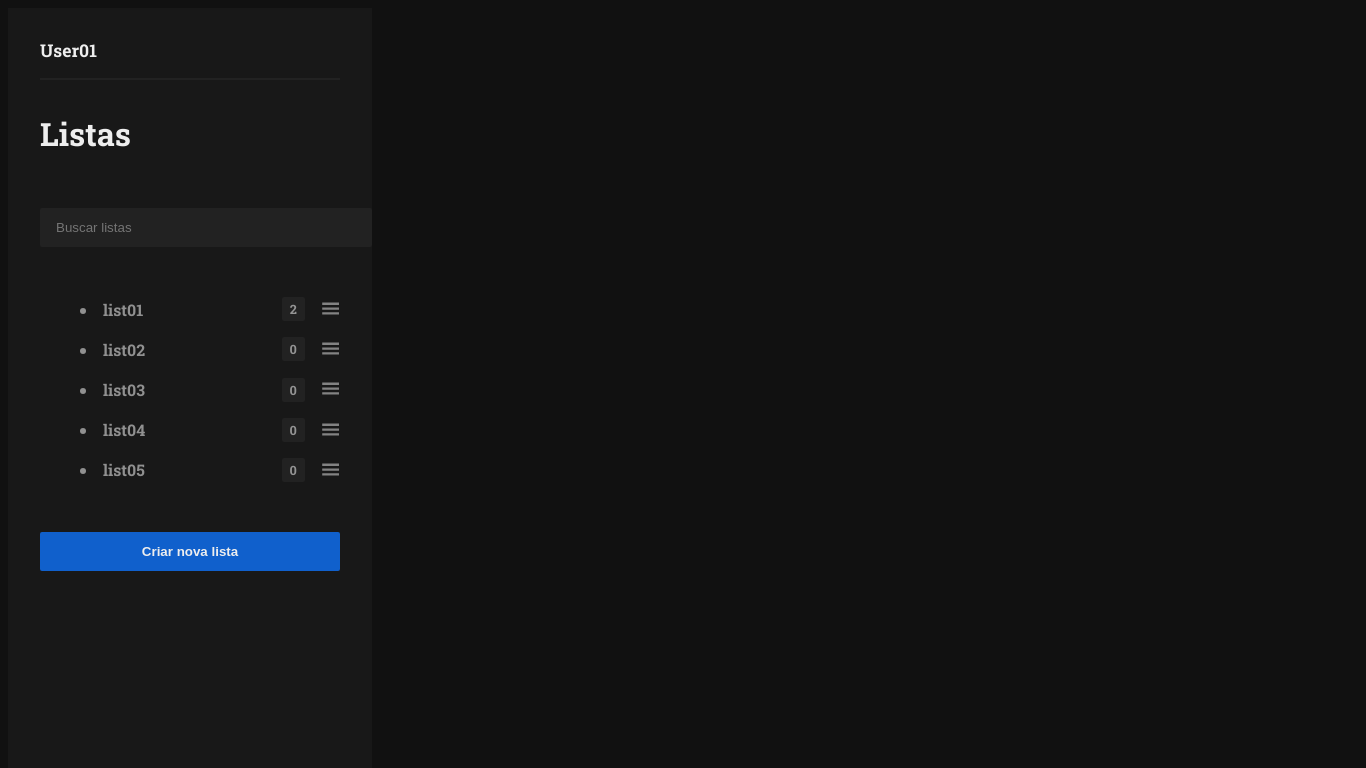
Home page › Sidebar › Creates a new list
This screenshot has width=1366, height=768.
Click the button with test id "create-list": click(190, 552) [40,532,340,571]
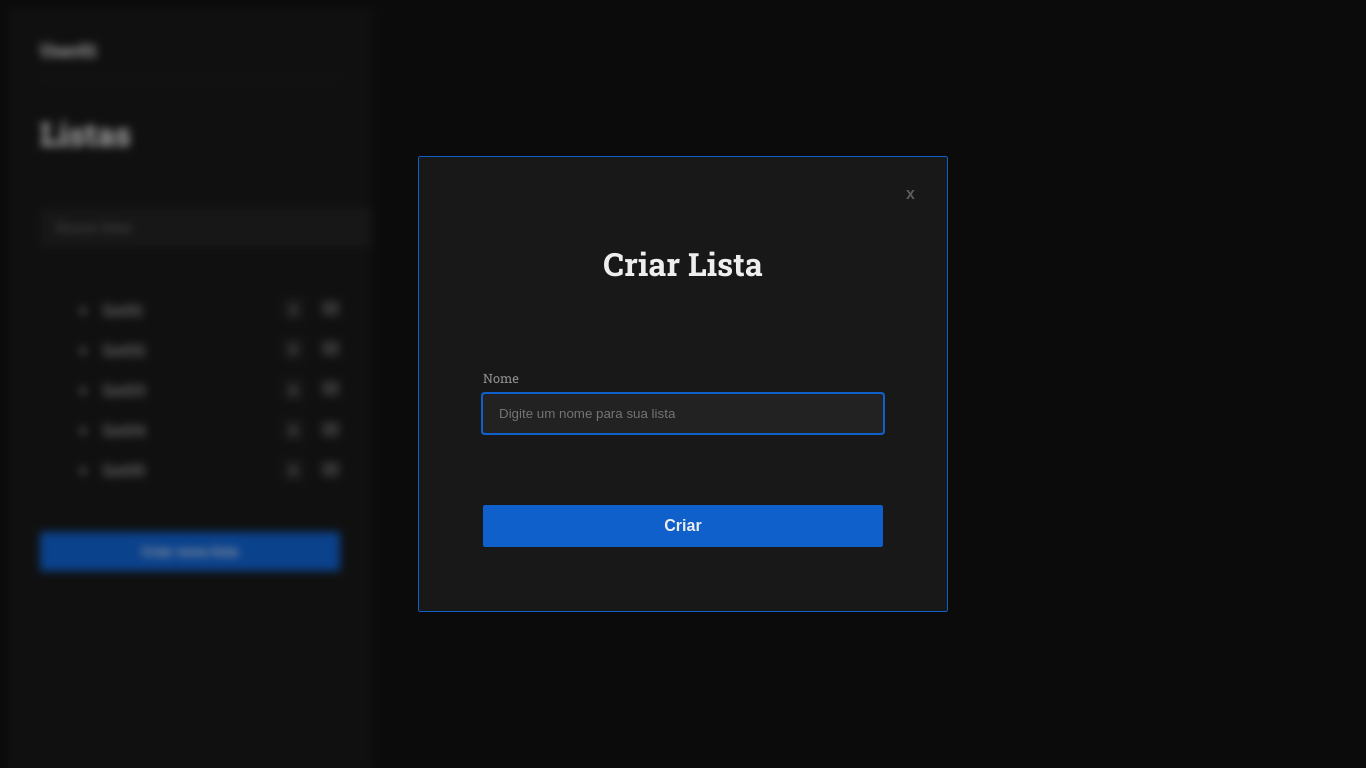
Check: the element with test id "create-list-container" is shown
In the field with test id "name": (683, 414) [483,394,883,433], type "New List"
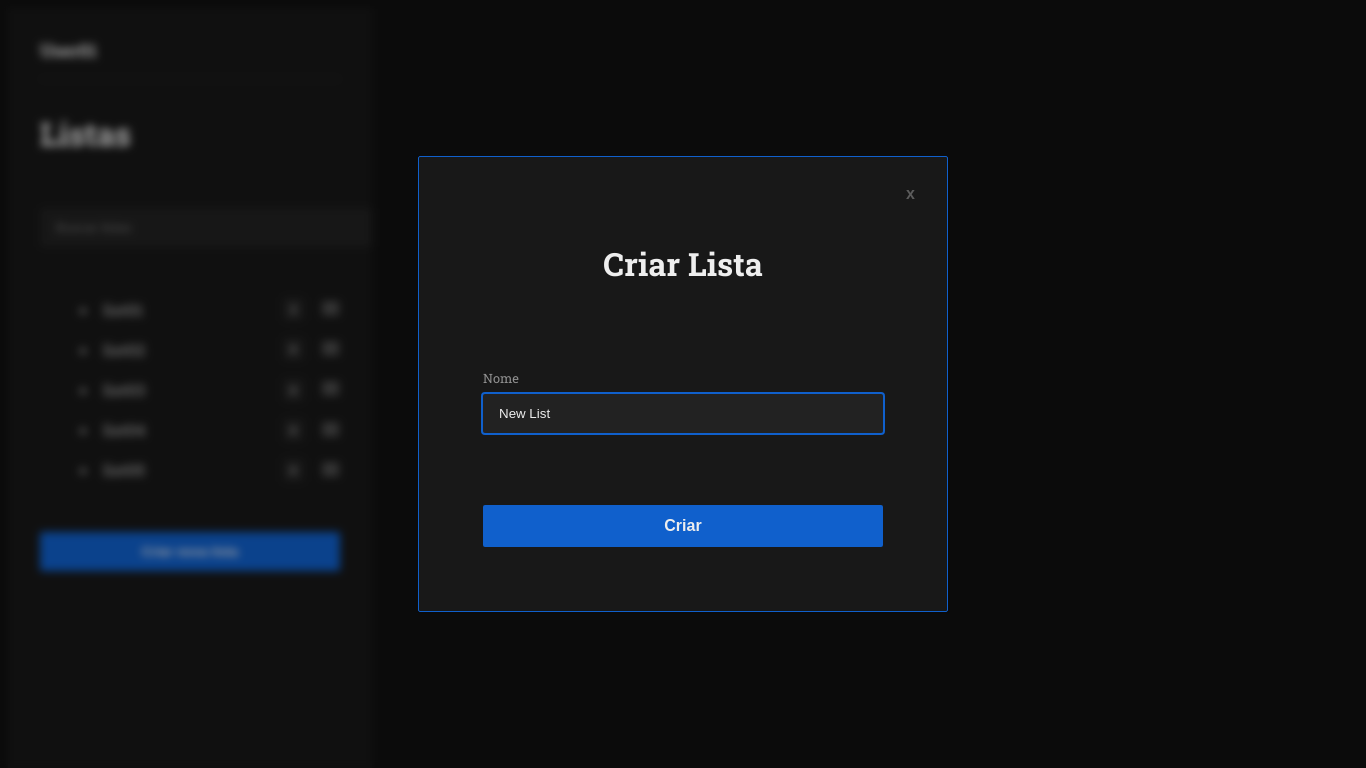
Click the button with test id "submit": click(683, 526) [483,505,883,547]
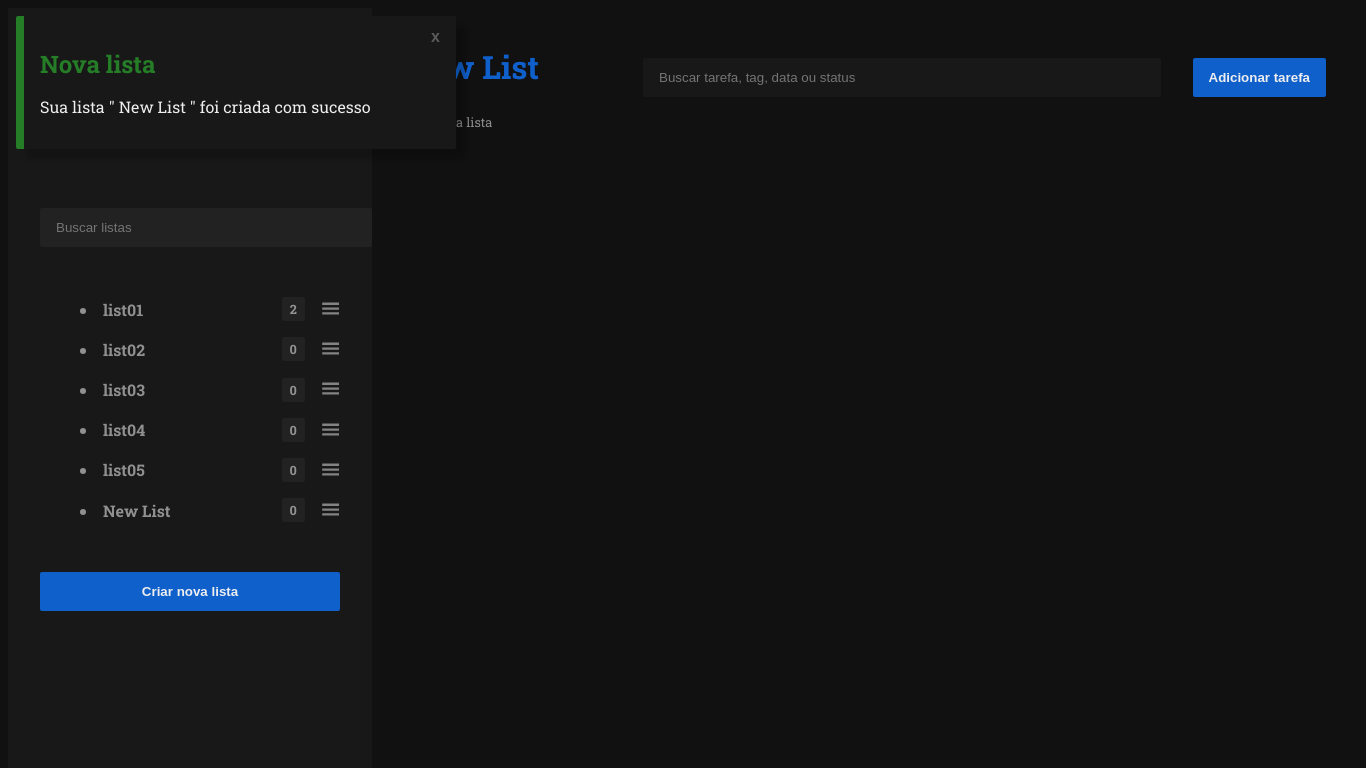
Check: the heading with class "title" reads "Nova lista", box [40,48,156,80]
Check: the element with test id "create-list-container" is gone
